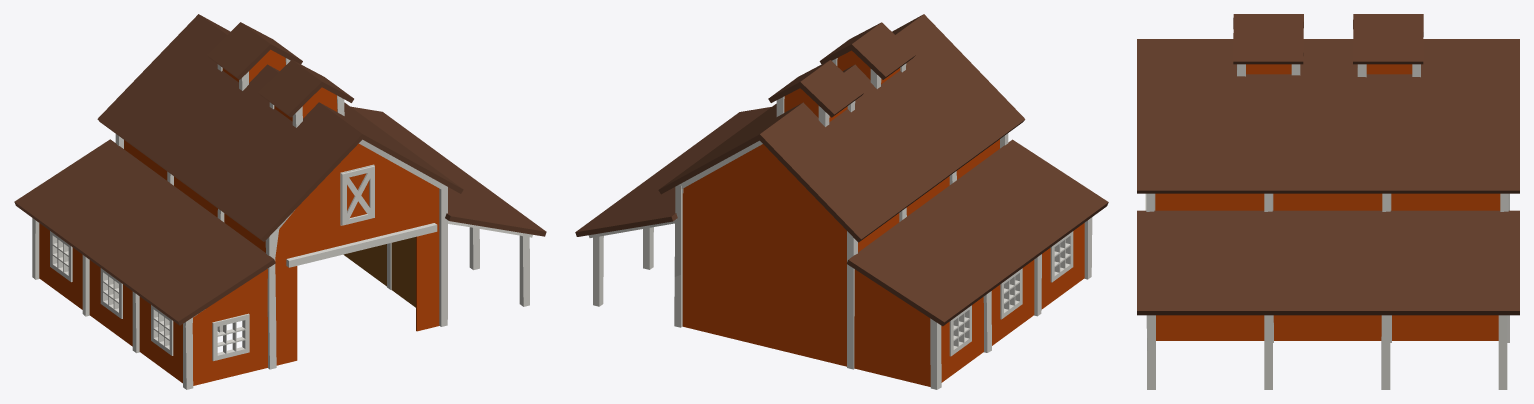
Rendered from farm.fbx.
3 renders of one model, left to right at view 1: azimuth 30°, elevation 25°; view 2: azimuth 150°, elevation 25°; view 3: azimuth 270°, elevation 25°, orthographic. The views are drawn at different scales.
Parts seen in each view (by area): view 1: Cube.005; view 2: Cube.005; view 3: Cube.005.
Part boxes in pixels (bbox=[...]): Cube.005: bbox=[14, 14, 546, 389]; Cube.005: bbox=[575, 14, 1108, 389]; Cube.005: bbox=[1137, 14, 1519, 389].
Size of the model in its own units: 21.8 by 13.52 by 16.8.
